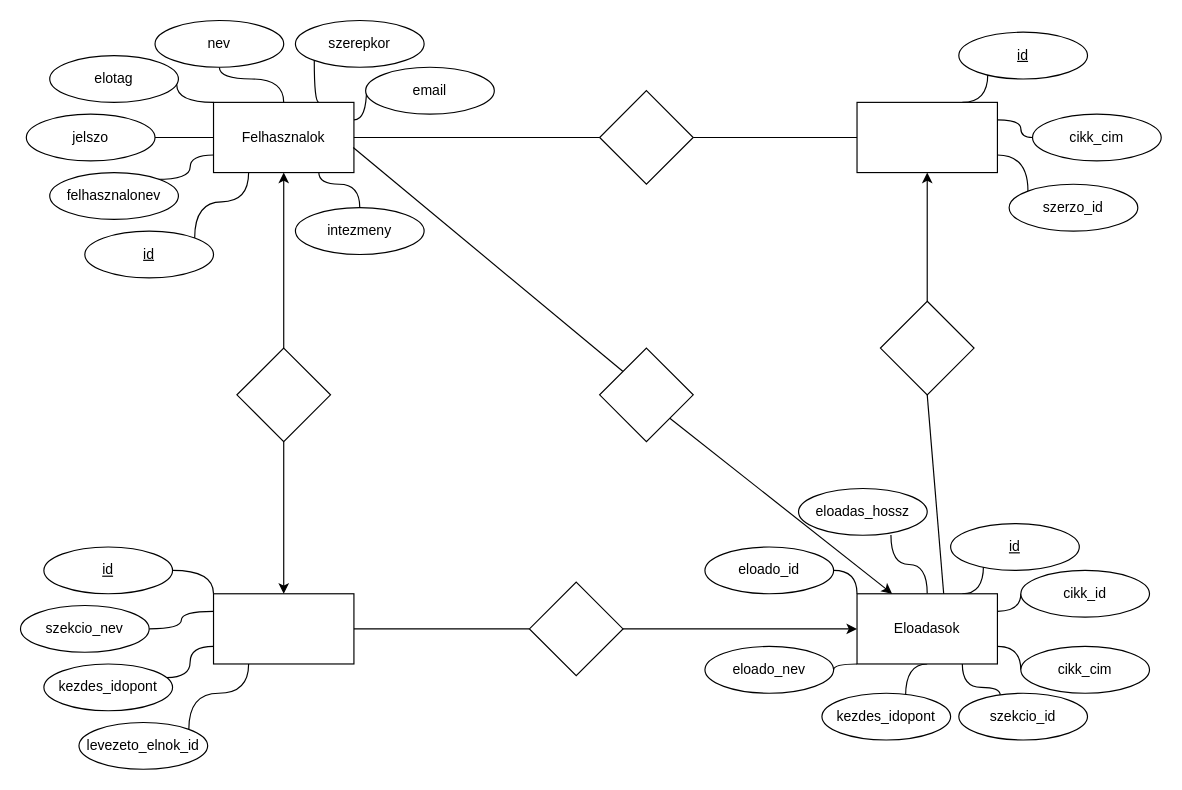
This 1182x790 diagram has some shape labels left out. The shapes that lost their labels are listed below. From the top down, each one's centre as x and y in pixels, then its label:
the point at 645,137: szerzője
the point at 926,137: Cikkek
the point at 926,347: tartozik
the point at 283,394: levezető elnöke
the point at 645,394: előadó
the point at 283,628: Szekciok
the point at 575,628: zajlik
